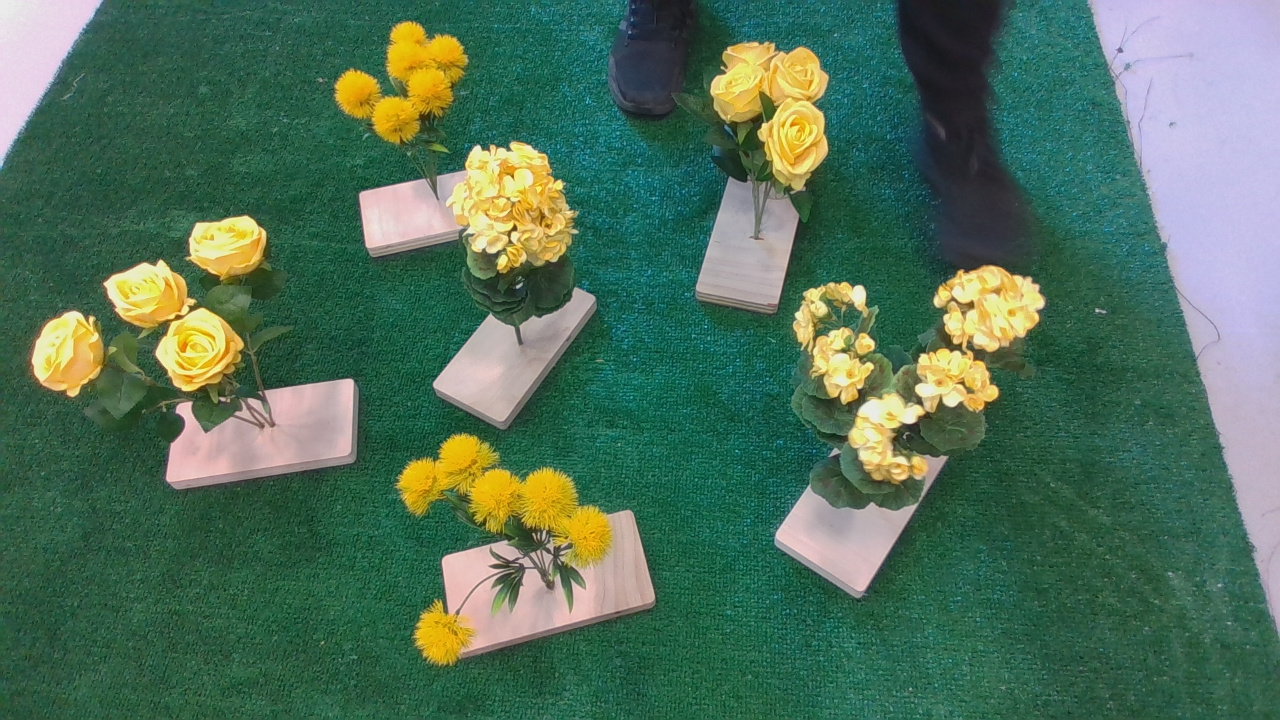dandelion: (371, 439, 633, 673), (335, 21, 480, 156)
geranium: (786, 263, 1059, 523), (452, 145, 602, 327), (705, 37, 840, 228)
rose: (31, 212, 288, 456)
